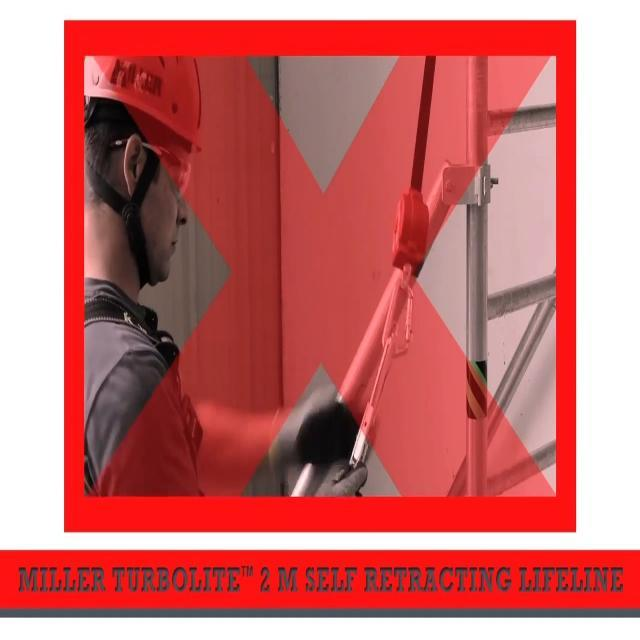belt: (67, 251, 213, 524)
